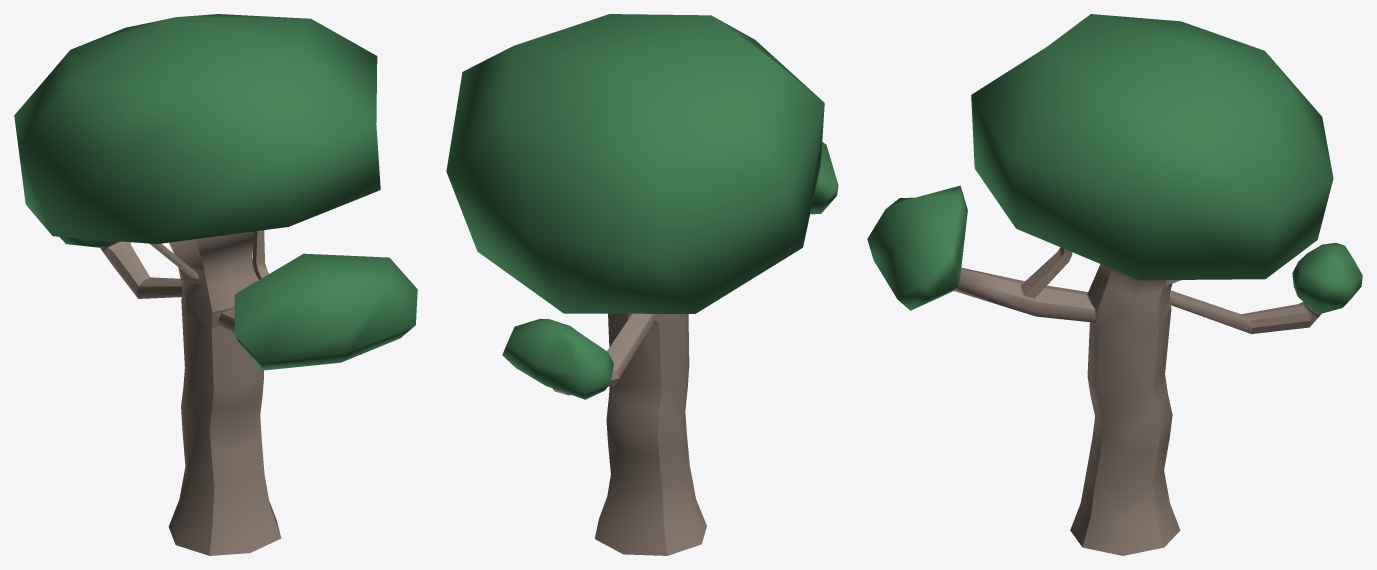
The model's file is Tree1.fbx.
3 views of the same model, side by side, from view 1: azimuth 30°, elevation 25°; view 2: azimuth 150°, elevation 25°; view 3: azimuth 270°, elevation 25° (orthographic). The views are drawn at different scales.
Visible parts, largest first — view 1: pCube1; view 2: pCube1; view 3: pCube1.
Part boxes in pixels (x1,y1,x2,y2): pCube1: (14, 14, 417, 555); pCube1: (446, 14, 838, 555); pCube1: (867, 14, 1362, 555).
Size of the model in its own units: 1.09 by 1.5 by 1.4.
